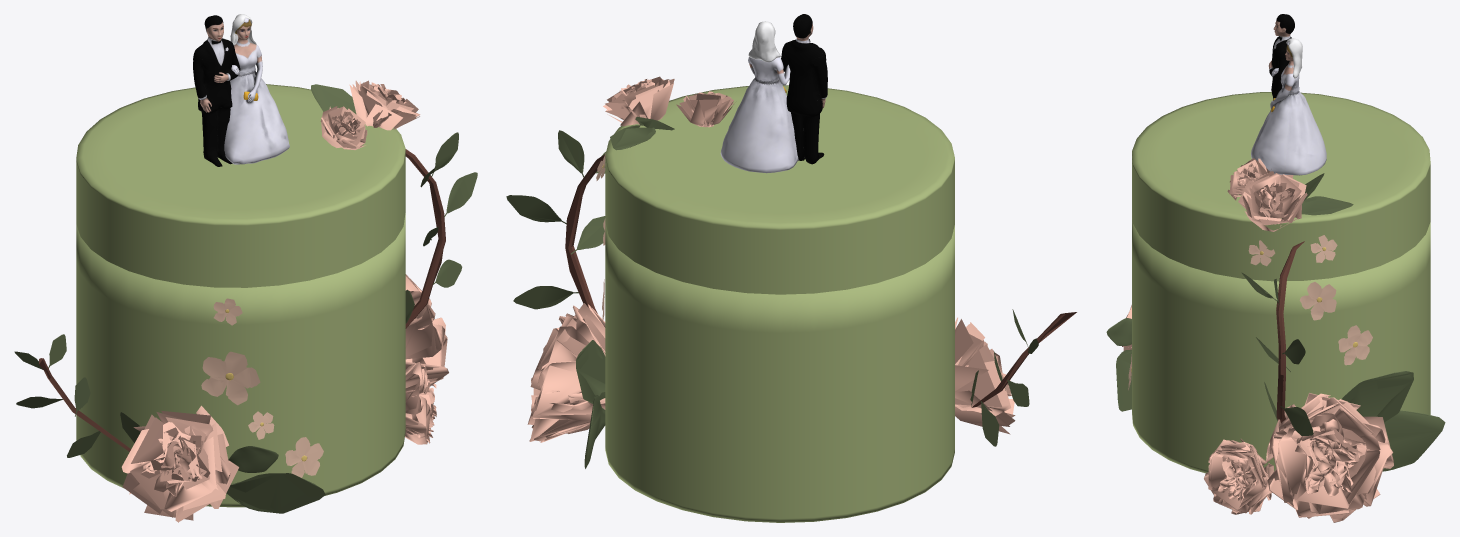
Rendered from 1-tier-pistage-roses-bridegroom.glb.
3 views of the same model, side by side, from view 1: azimuth 30°, elevation 25°; view 2: azimuth 150°, elevation 25°; view 3: azimuth 270°, elevation 25° (orthographic). The views are drawn at different scales.
Visible parts, largest first — view 1: Cylinder.019, 13501_Cake_Topper_Bride_Groom_v1_L1.004, grid.039, Plane.083, Plane.074, Plane.075, grid.038, grid.041, grid.033, Sphere.050, grid.035, Sphere.054 (+2 smaller); view 2: Cylinder.019, 13501_Cake_Topper_Bride_Groom_v1_L1.004, grid.038, Plane.083, grid.039, grid.041, Plane.075, Plane.079, grid.035, Plane.086, Plane.080; view 3: Cylinder.019, grid.038, 13501_Cake_Topper_Bride_Groom_v1_L1.004, grid.033, grid.041, Plane.083, Plane.080, Plane.079, Sphere.057, Sphere.059, Plane.074, grid.035 (+4 smaller).
Boxes of the visible parts, box(x1,y1,x2,y2) form: Cylinder.019: box(76, 84, 405, 507); 13501_Cake_Topper_Bride_Groom_v1_L1.004: box(193, 14, 289, 166); grid.039: box(121, 405, 238, 522); Plane.083: box(405, 132, 477, 328); Plane.074: box(226, 473, 325, 513); Plane.075: box(14, 334, 140, 457); grid.038: box(405, 274, 448, 388); grid.041: box(349, 80, 420, 130); grid.033: box(405, 362, 436, 444); Sphere.050: box(201, 351, 260, 405); grid.035: box(320, 106, 367, 149); Sphere.054: box(285, 437, 323, 477); Cylinder.019: box(605, 85, 954, 522); 13501_Cake_Topper_Bride_Groom_v1_L1.004: box(720, 14, 827, 173); grid.038: box(527, 303, 605, 442); Plane.083: box(506, 130, 606, 313); grid.039: box(955, 317, 1015, 434); grid.041: box(603, 76, 674, 126); Plane.075: box(970, 309, 1076, 446); Plane.079: box(576, 340, 605, 403); grid.035: box(676, 91, 734, 127); Plane.086: box(610, 125, 655, 150); Plane.080: box(584, 395, 605, 468); Cylinder.019: box(1132, 92, 1430, 473); grid.038: box(1266, 393, 1393, 522); 13501_Cake_Topper_Bride_Groom_v1_L1.004: box(1251, 14, 1326, 175); grid.033: box(1204, 439, 1273, 514); grid.041: box(1238, 171, 1307, 231); Plane.083: box(1241, 241, 1313, 435); Plane.080: box(1382, 410, 1445, 471); Plane.079: box(1341, 371, 1413, 422); Sphere.057: box(1299, 282, 1336, 320); Sphere.059: box(1338, 325, 1372, 365); Plane.074: box(1116, 349, 1131, 411); grid.035: box(1227, 158, 1271, 200).
Size of the model in its own units: 4.49 by 3.93 by 2.9.
7 materials, 1 textured.
